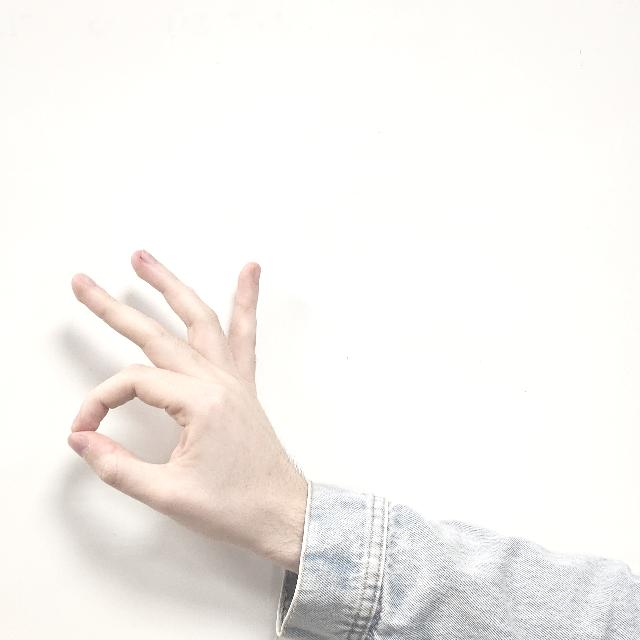Bolinha: (51, 234, 310, 578)
